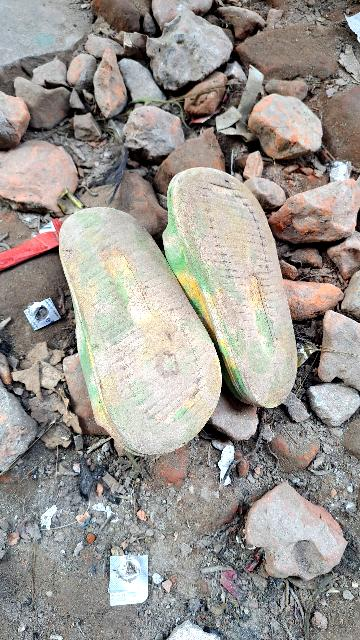sandal: (41, 176, 253, 453), (169, 165, 306, 415)
